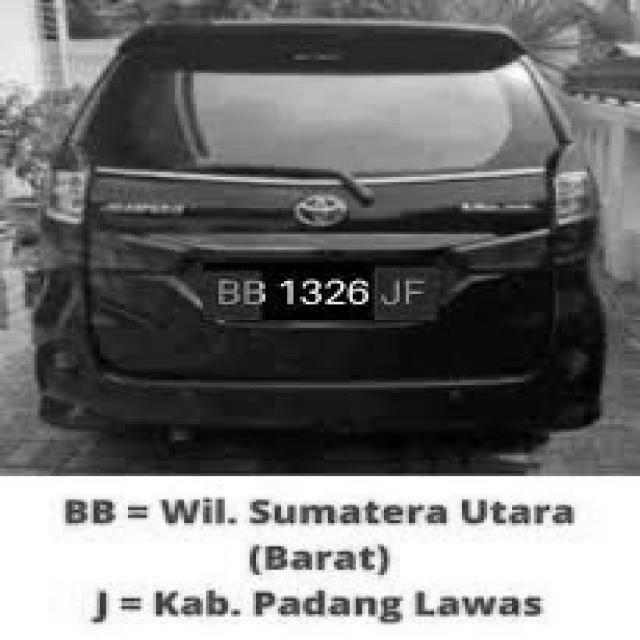1: (276, 270, 298, 310)
2: (323, 273, 347, 312)
3: (300, 273, 326, 314)
6: (350, 273, 370, 314)
B: (215, 276, 243, 308), (242, 278, 268, 308)
F: (406, 270, 424, 318)
J: (378, 273, 406, 318)
